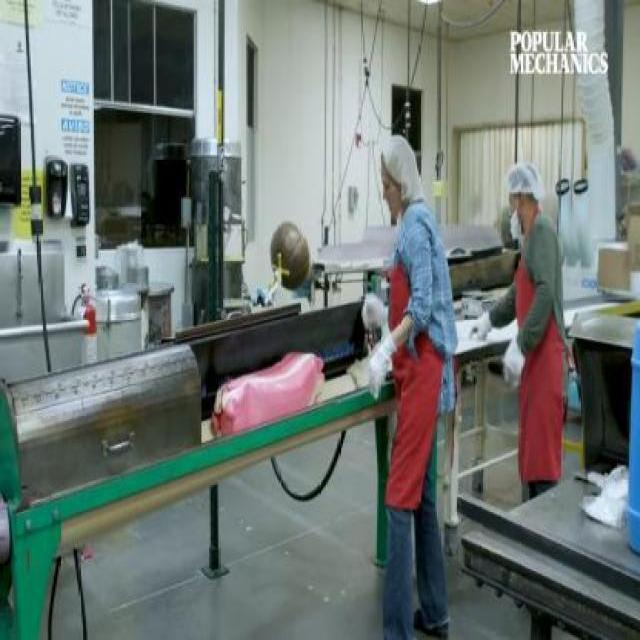gloved_hand: (360, 325, 402, 389), (358, 276, 398, 332), (463, 296, 502, 347), (499, 339, 535, 387)
